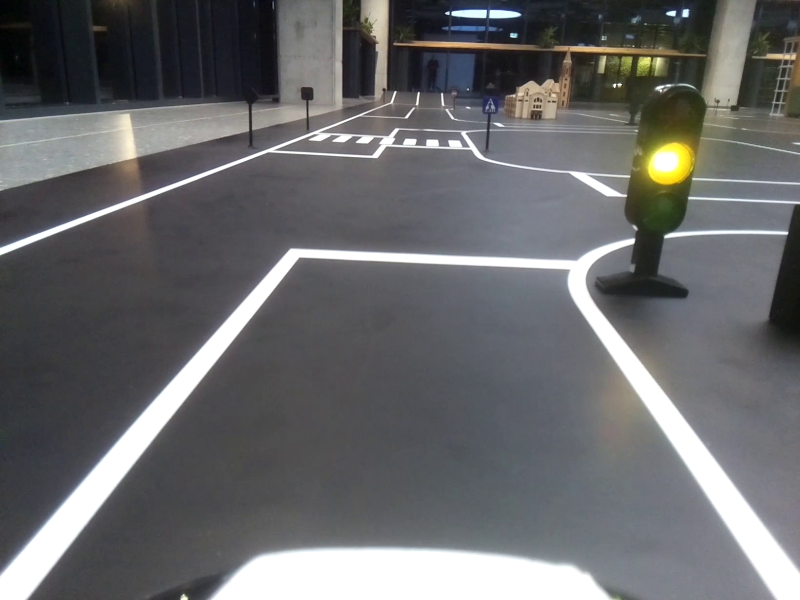traffic_yellow: (633, 96, 694, 235)
